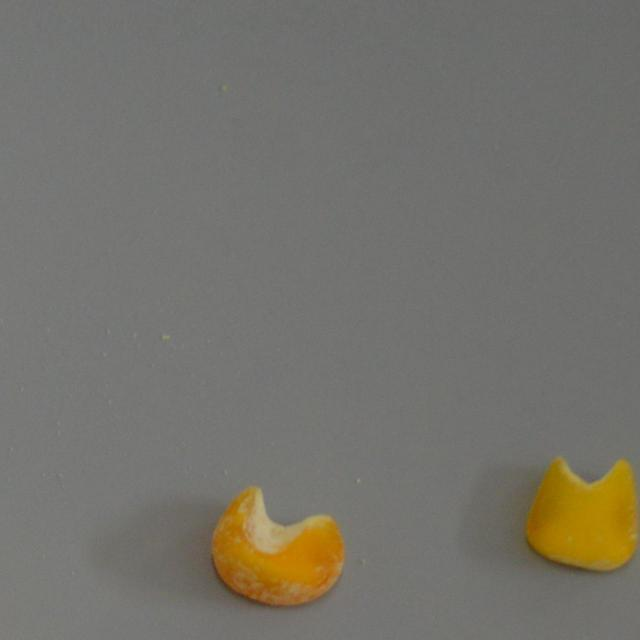no_canjicado: (526, 455, 640, 570)
pelicula: (210, 485, 344, 607)
